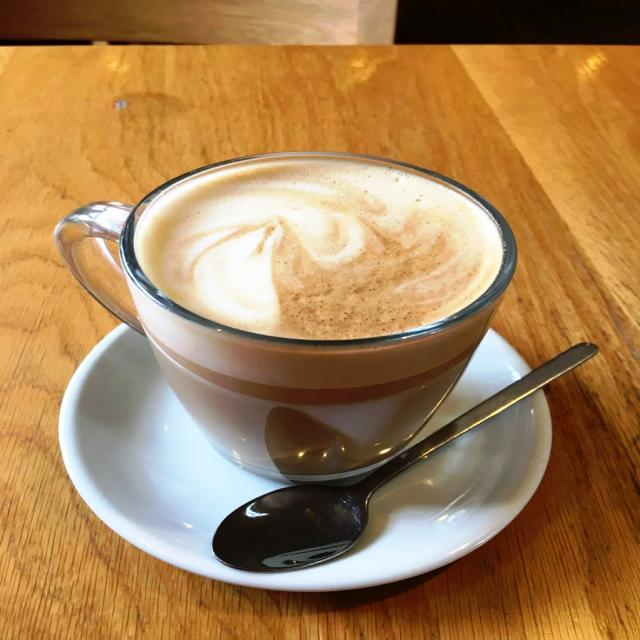drink: (57, 153, 516, 483)
